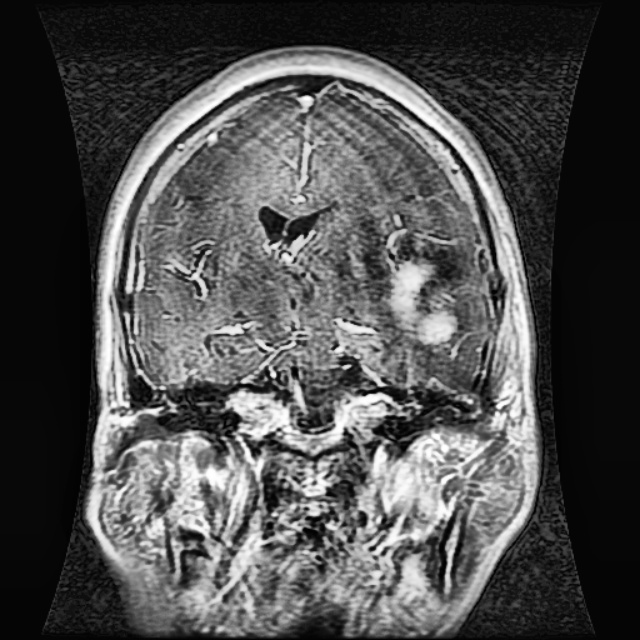Meningioma: (375, 230, 480, 350)
